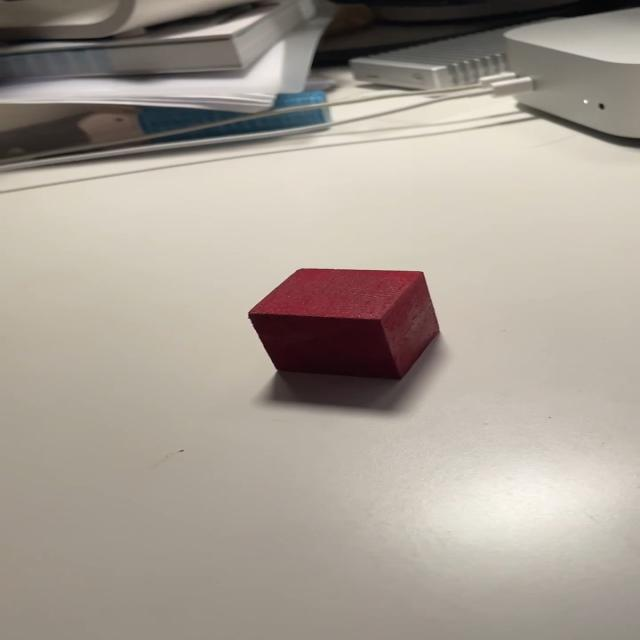red_block: (246, 269, 442, 378)
